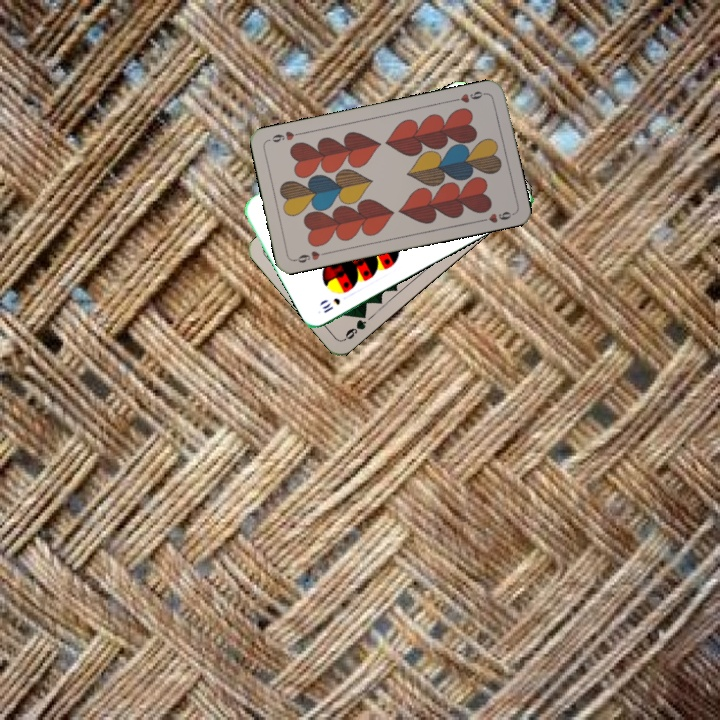G9: (340, 308, 369, 343)
H9: (290, 247, 330, 266), (449, 87, 489, 105)
S10: (318, 294, 343, 316)
